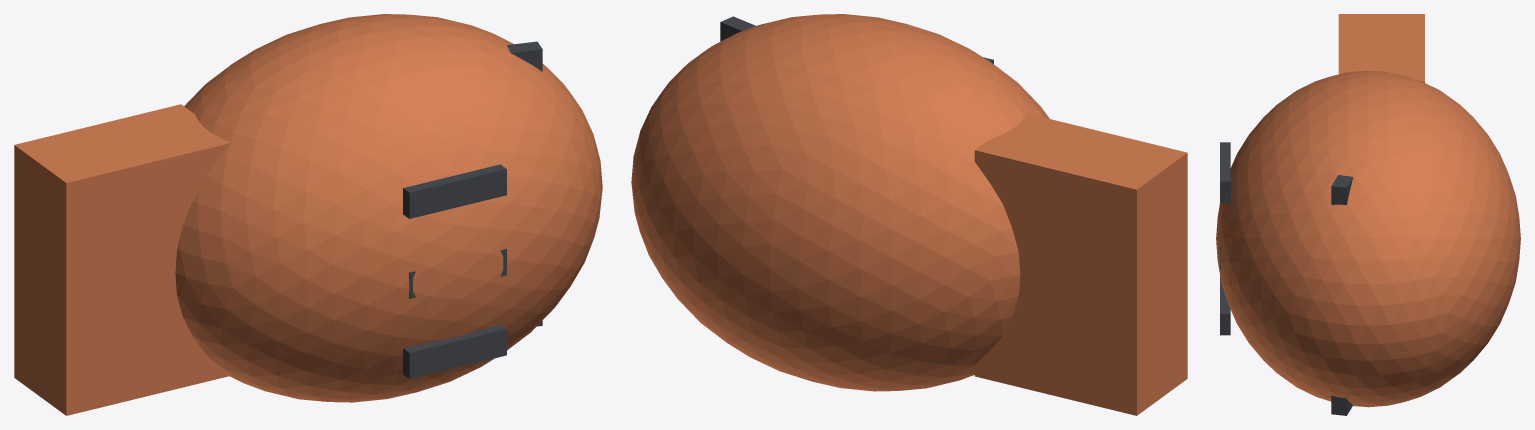
The picture shows the model from 3 angles, left to right: view 1: azimuth 30°, elevation 25°; view 2: azimuth 150°, elevation 25°; view 3: azimuth 270°, elevation 25°; orthographic projection. The views are drawn at different scales.
Visible parts, largest first — view 1: geometry_0; view 2: geometry_0; view 3: geometry_0.
Boxes of the visible parts, <box> form: geometry_0: <box>14,14,602,415</box>; geometry_0: <box>631,14,1187,415</box>; geometry_0: <box>1216,14,1520,415</box>.
Bounding box in the file's own units: 0.385 × 0.24 × 0.23.
